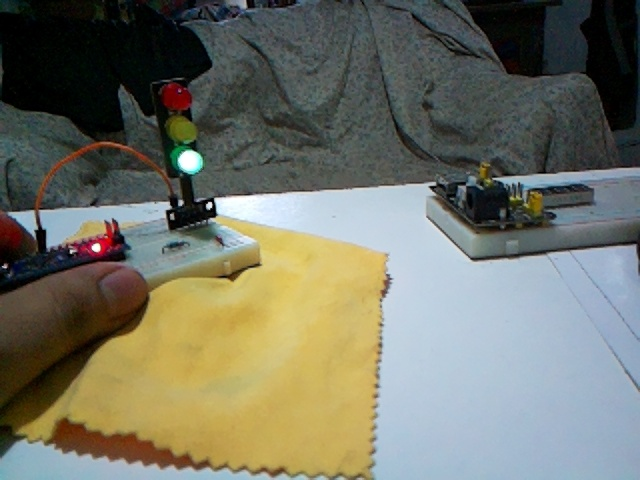traffic_light_green: (151, 79, 203, 177)
